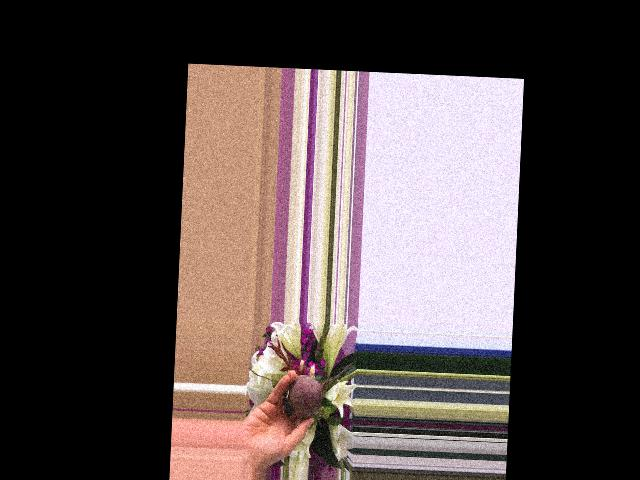beet: (282, 357, 354, 421)
